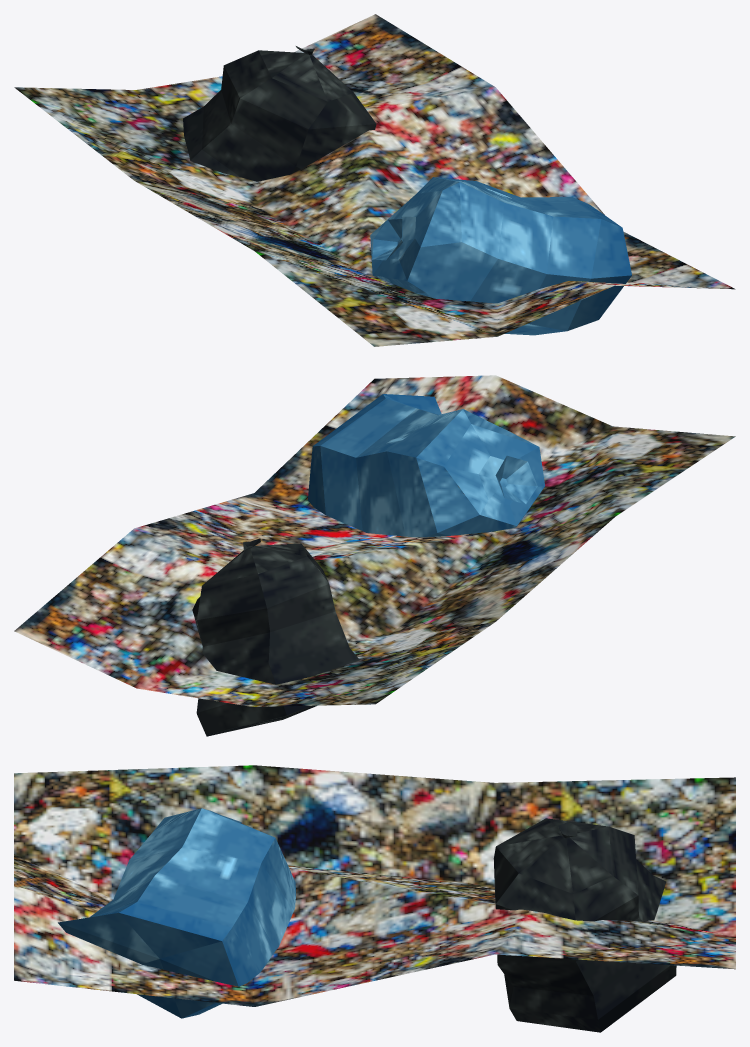
The model's file is Urban_DumpsterTrashpile2_Model.fbx.
3 renders of one model, top to bottom at view 1: azimuth 30°, elevation 25°; view 2: azimuth 150°, elevation 25°; view 3: azimuth 270°, elevation 25°, orthographic.
Parts seen in each view (by area): view 1: Urban_DumpsterTrashpile2_Mesh; view 2: Urban_DumpsterTrashpile2_Mesh; view 3: Urban_DumpsterTrashpile2_Mesh.
Boxes of the visible parts, box(x1,y1,x2,y2) form: Urban_DumpsterTrashpile2_Mesh: box(14, 14, 735, 346); Urban_DumpsterTrashpile2_Mesh: box(14, 375, 735, 736); Urban_DumpsterTrashpile2_Mesh: box(14, 765, 735, 1032).
Bounding box in the file's own units: 1.85 × 0.9863 × 3.2.
